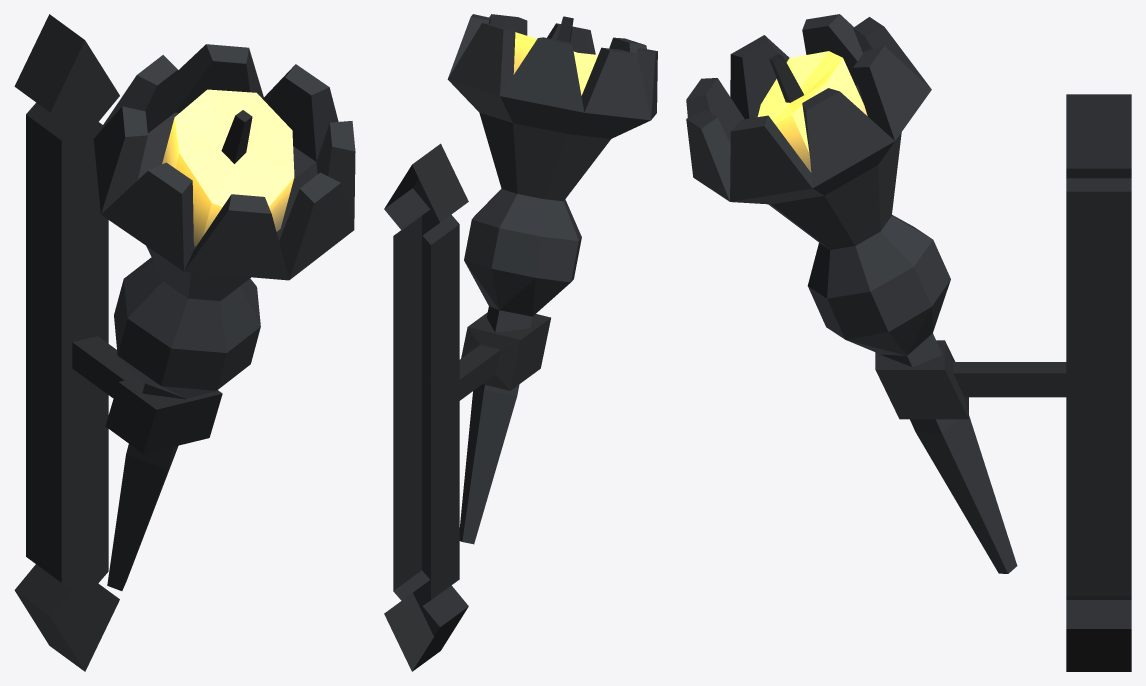
File: castle_torch.gltf
The picture shows the model from 3 angles, left to right: view 1: azimuth 30°, elevation 25°; view 2: azimuth 150°, elevation 25°; view 3: azimuth 270°, elevation 25°; orthographic projection. The views are drawn at different scales.
Visible parts, largest first — view 1: castle_torch; view 2: castle_torch; view 3: castle_torch.
Boxes of the visible parts, x1,y1,x2,y2 form: castle_torch: (14, 14, 355, 671); castle_torch: (384, 14, 657, 671); castle_torch: (686, 14, 1131, 671).
Bounding box in the file's own units: 0.2397 × 0.647 × 0.411.
1 material, 1 textured.
